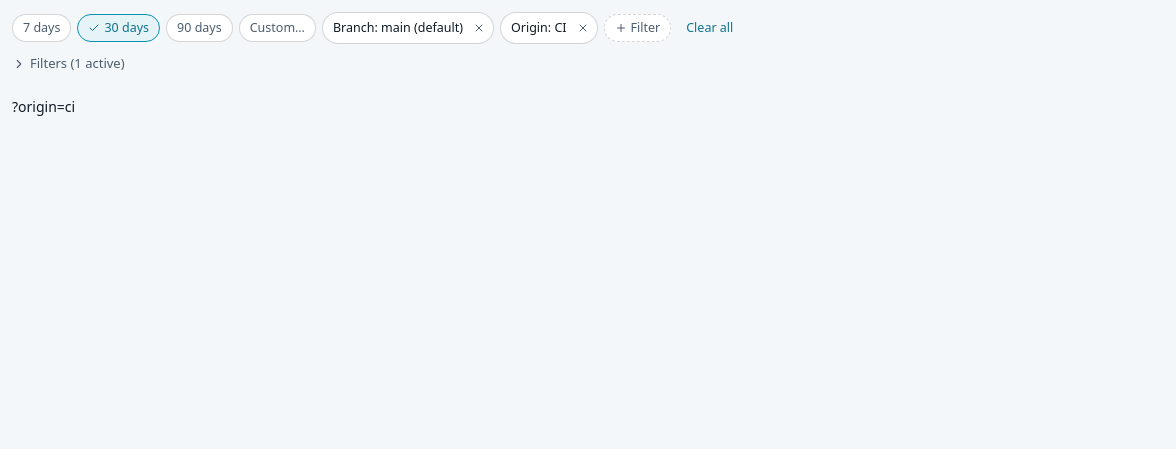
Test case: case-areas failing disables area and suite with Retry; a run-urls failure shows on the origin filter
Click the button with aria-label "+ Filter". click: (637, 28)
box: [604, 14, 671, 42]
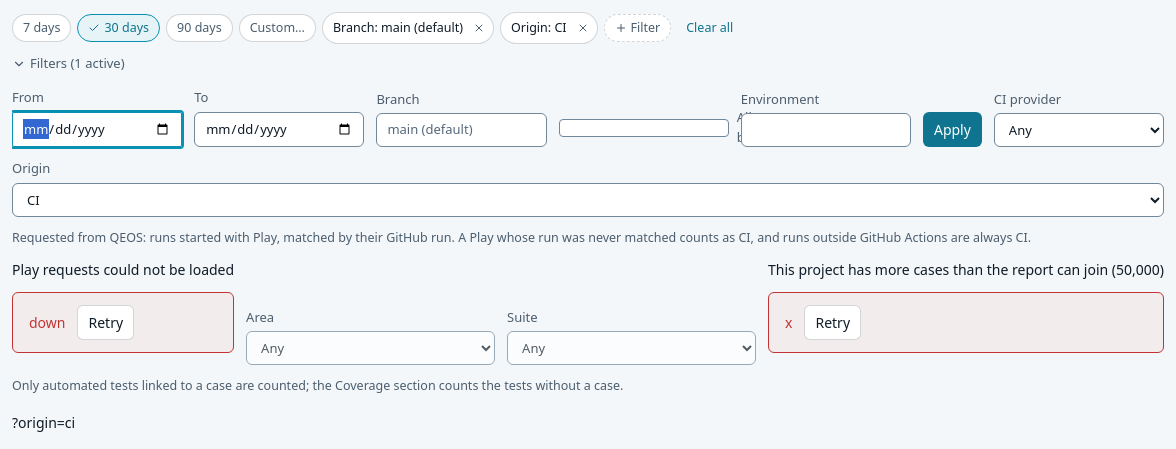
Expected: the dropdown labelled "Area" is disabled, [246, 331, 495, 365]
Expected: the text "This project has more cases than the report can join (50,000)" is shown, [768, 259, 1164, 280]
Expected: the text "Play requests could not be loaded" is shown, [12, 259, 234, 280]
